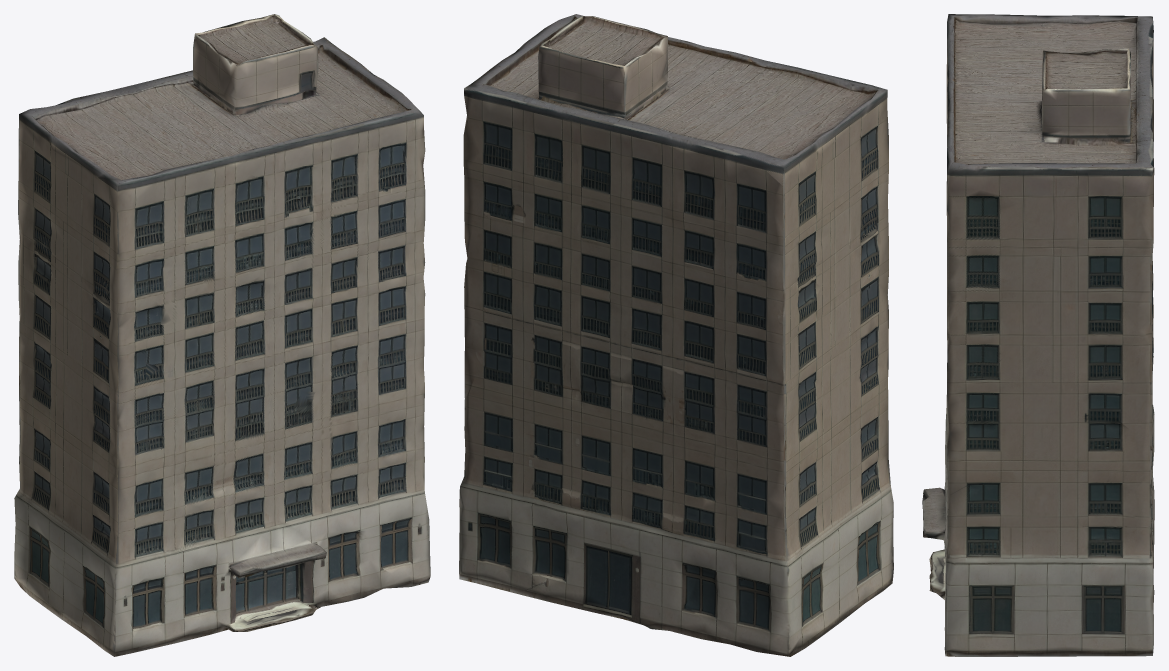
The model's file is KR_Officetel_01.glb.
3 views of the same model, side by side, from view 1: azimuth 30°, elevation 25°; view 2: azimuth 150°, elevation 25°; view 3: azimuth 270°, elevation 25° (orthographic). The views are drawn at different scales.
Visible parts, largest first — view 1: texture_mapping; view 2: texture_mapping; view 3: texture_mapping.
Boxes of the visible parts, x1=… form: texture_mapping: x1=14, y1=14, x2=430, y2=656; texture_mapping: x1=459, y1=14, x2=893, y2=656; texture_mapping: x1=922, y1=14, x2=1154, y2=656.
Bounding box in the file's own units: 0.637 × 1 × 0.3931.
Materials: 1 (1 with a texture image).
